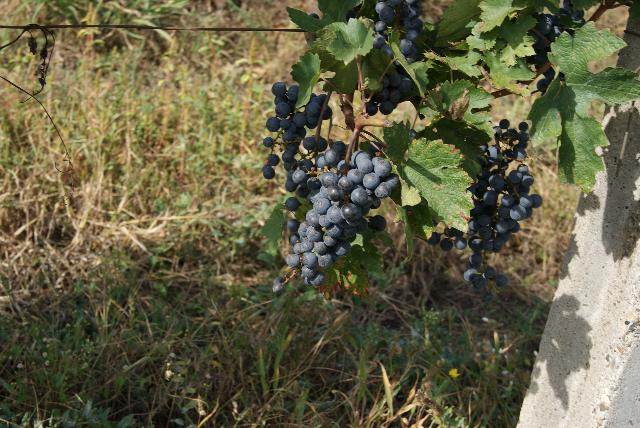grapes: (428, 119, 542, 302), (285, 141, 399, 288), (262, 81, 309, 192), (285, 134, 320, 232)
